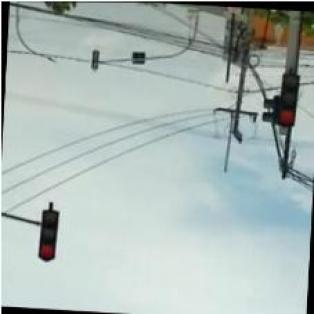Semaforo Rojo: (277, 72, 300, 126), (37, 209, 57, 261)
